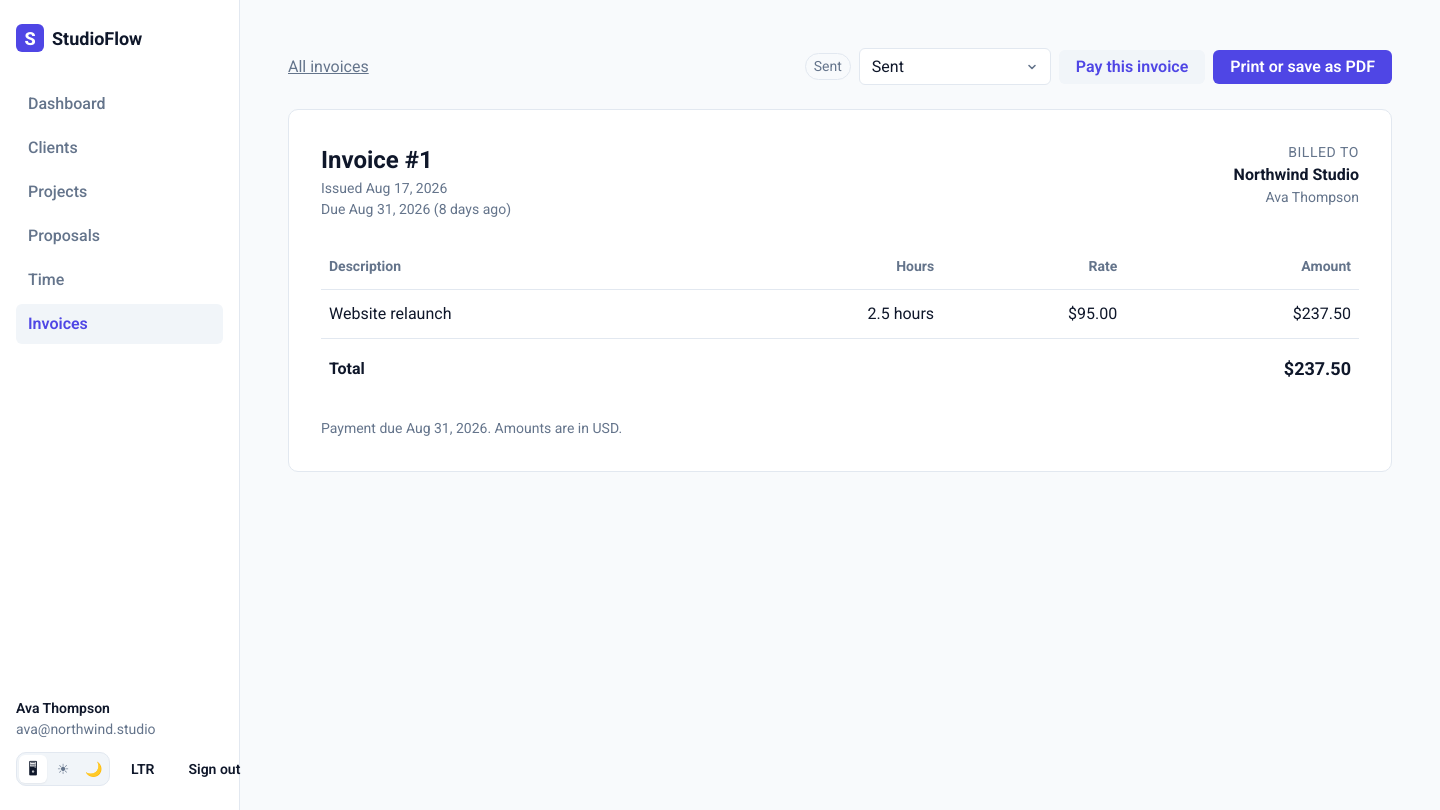
Scenario: InvoiceDetailPage › does not offer paid as something to choose
Expected: the heading "Invoice #1" is shown, x1=321 y1=146 x2=433 y2=174
Step 1. Click the dropdown named "Status" → (955, 66), box x1=859 y1=48 x2=1051 y2=85
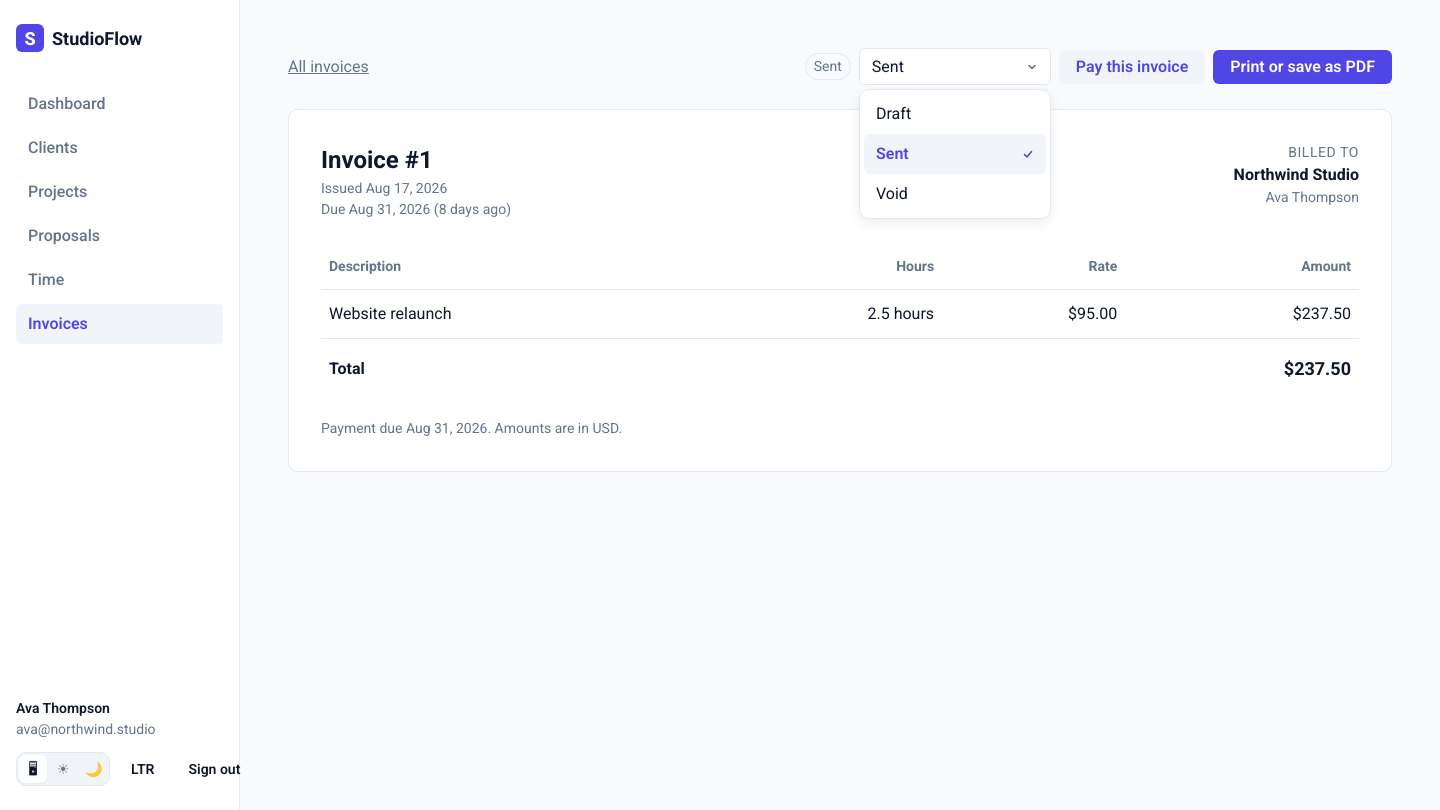
Result: the option "Sent" is shown at x1=864 y1=134 x2=1046 y2=174
